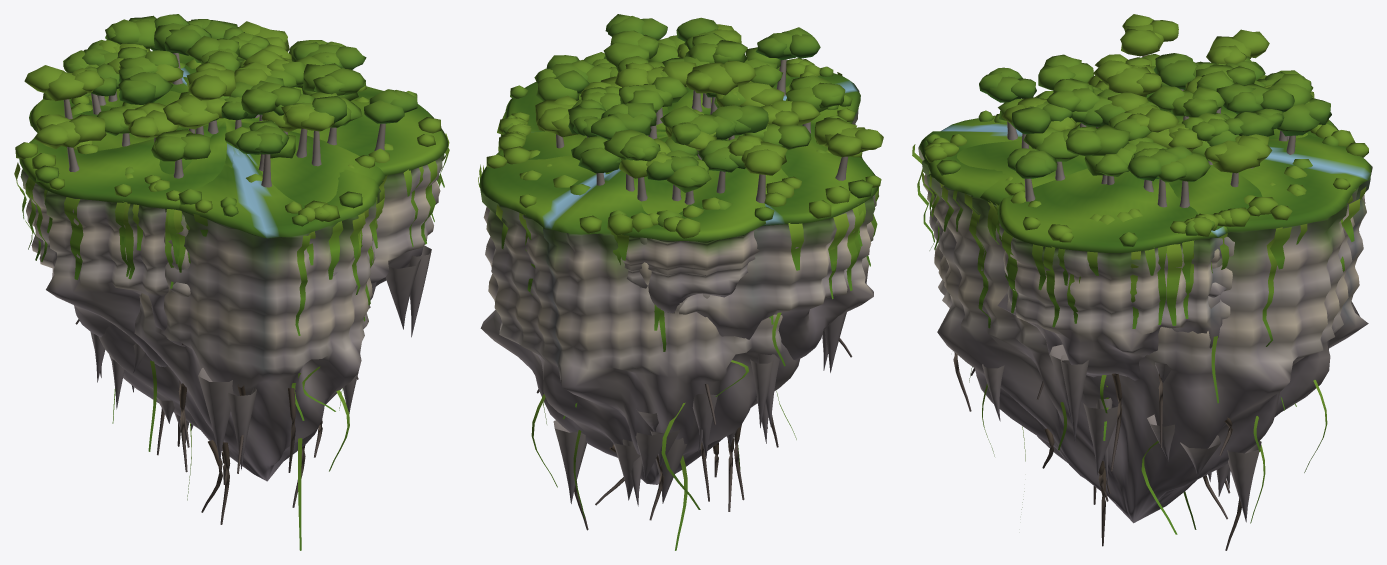
File: skyisle.glb
3 views of the same model, side by side, from view 1: azimuth 30°, elevation 25°; view 2: azimuth 150°, elevation 25°; view 3: azimuth 270°, elevation 25° (orthographic).
Visible parts, largest first — view 1: isle_b, isle_a, isle_c; view 2: isle_b, isle_a, isle_c; view 3: isle_b, isle_a, isle_c.
Part boxes in pixels (left/top/right/bottom): isle_b: left=65, top=14, right=384, bottom=550; isle_a: left=14, top=15, right=449, bottom=455; isle_c: left=29, top=19, right=393, bottom=276; isle_b: left=478, top=24, right=860, bottom=550; isle_a: left=497, top=14, right=883, bottom=501; isle_c: left=503, top=17, right=846, bottom=313; isle_b: left=912, top=53, right=1372, bottom=550; isle_a: left=991, top=14, right=1331, bottom=493; isle_c: left=950, top=64, right=1355, bottom=399.
Size of the model in its own units: 124 by 144 by 132.
